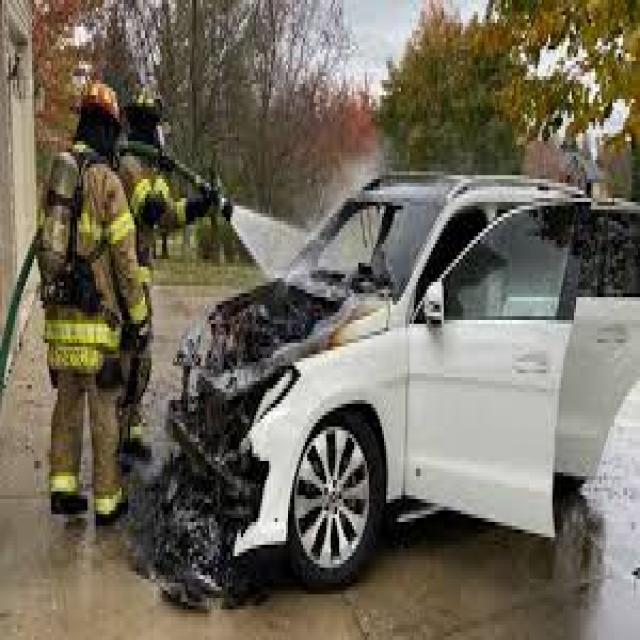severe: (158, 97, 438, 632)
